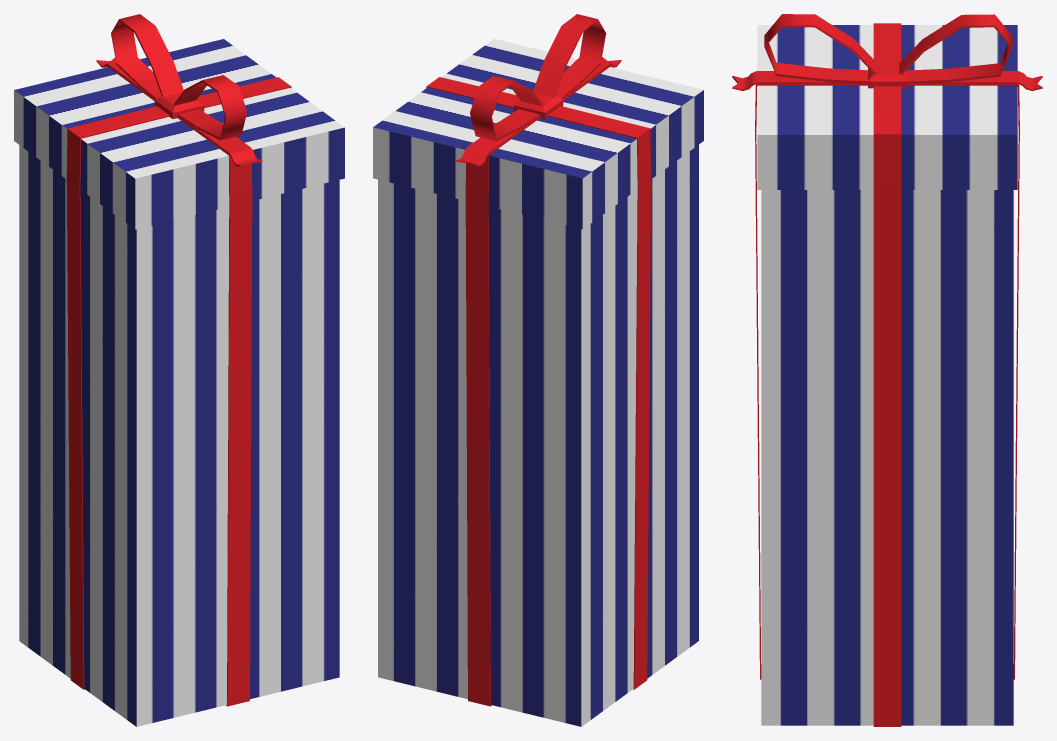
The model's file is MM_Present_Tall.fbx.
The picture shows the model from 3 angles, left to right: view 1: azimuth 30°, elevation 25°; view 2: azimuth 150°, elevation 25°; view 3: azimuth 270°, elevation 25°; orthographic projection. The views are drawn at different scales.
Visible parts, largest first — view 1: MM_Present_Tall; view 2: MM_Present_Tall; view 3: MM_Present_Tall.
Part boxes in pixels (x1=…): MM_Present_Tall: x1=14, y1=14, x2=344, y2=726; MM_Present_Tall: x1=373, y1=14, x2=703, y2=726; MM_Present_Tall: x1=732, y1=14, x2=1042, y2=726.
Bounding box in the file's own units: 24.71 × 67.55 × 29.08.
